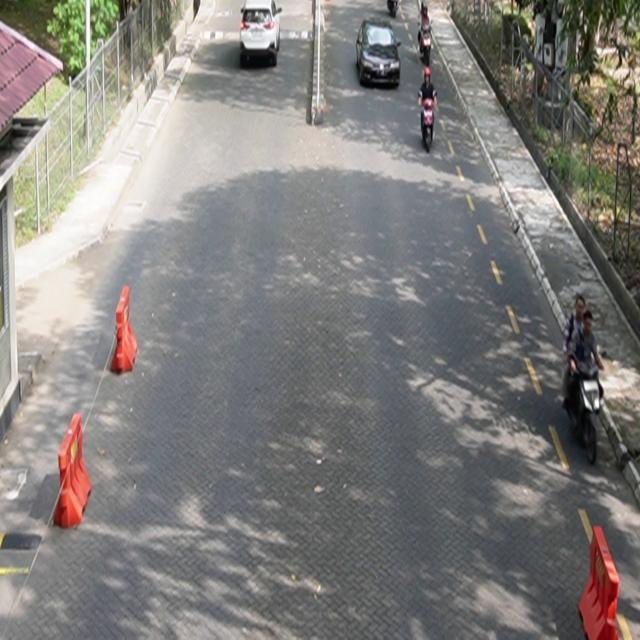car: (357, 17, 402, 89), (239, 1, 283, 67)
